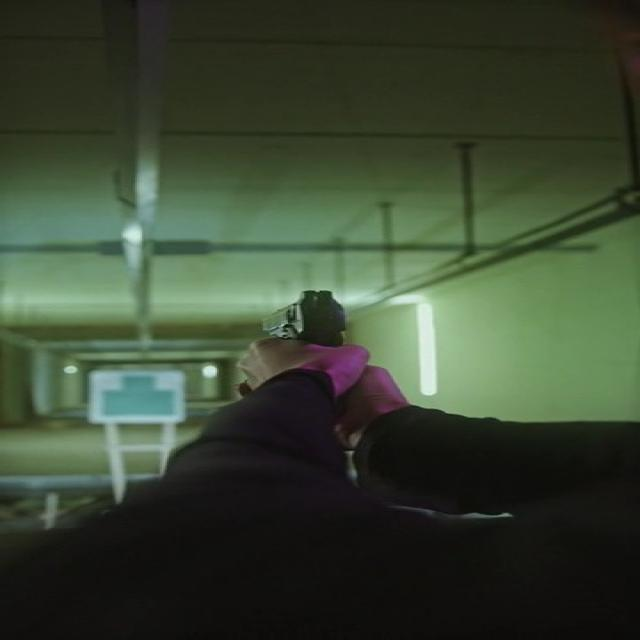Gun_Holder: (205, 284, 435, 438)
